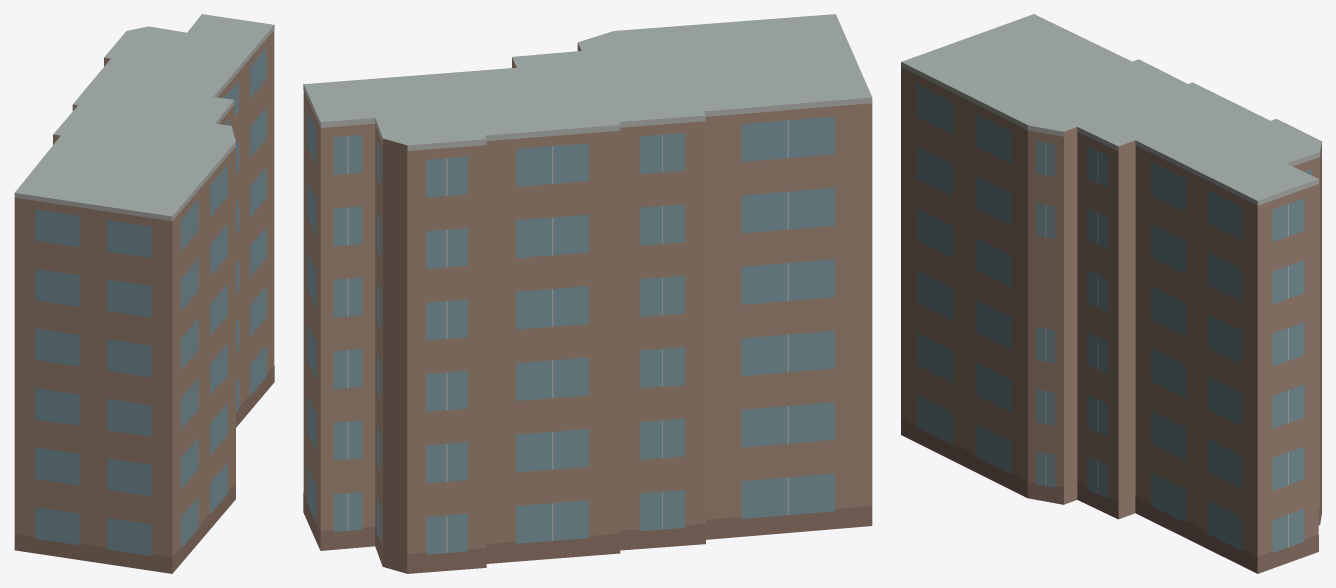
Rendered from survey-upis-32697291.glb.
The picture shows the model from 3 angles, left to right: view 1: azimuth 30°, elevation 25°; view 2: azimuth 150°, elevation 25°; view 3: azimuth 270°, elevation 25°; orthographic projection. The views are drawn at different scales.
Visible parts, largest first — view 1: survey-upis-32697291.tmp; view 2: survey-upis-32697291.tmp; view 3: survey-upis-32697291.tmp.
Part boxes in pixels (bbox=[...]): survey-upis-32697291.tmp: bbox=[14, 14, 274, 573]; survey-upis-32697291.tmp: bbox=[303, 14, 872, 573]; survey-upis-32697291.tmp: bbox=[901, 14, 1321, 573].
Size of the model in its own units: 19.68 by 18.3 by 18.72.
